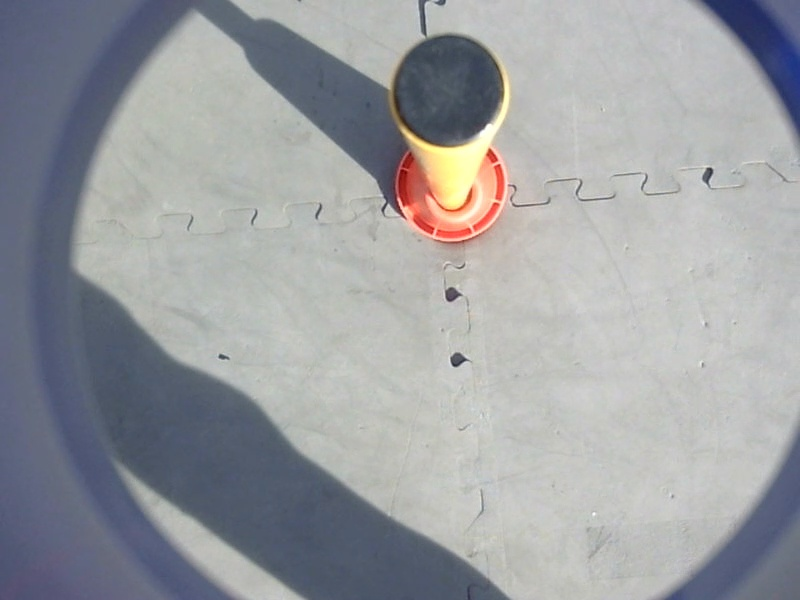tip: (382, 27, 514, 153)
